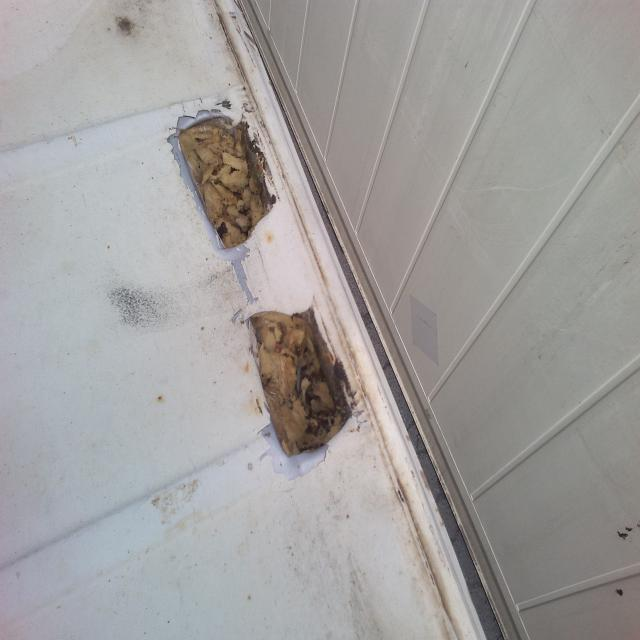hole: (236, 279, 357, 470), (165, 100, 295, 263)
